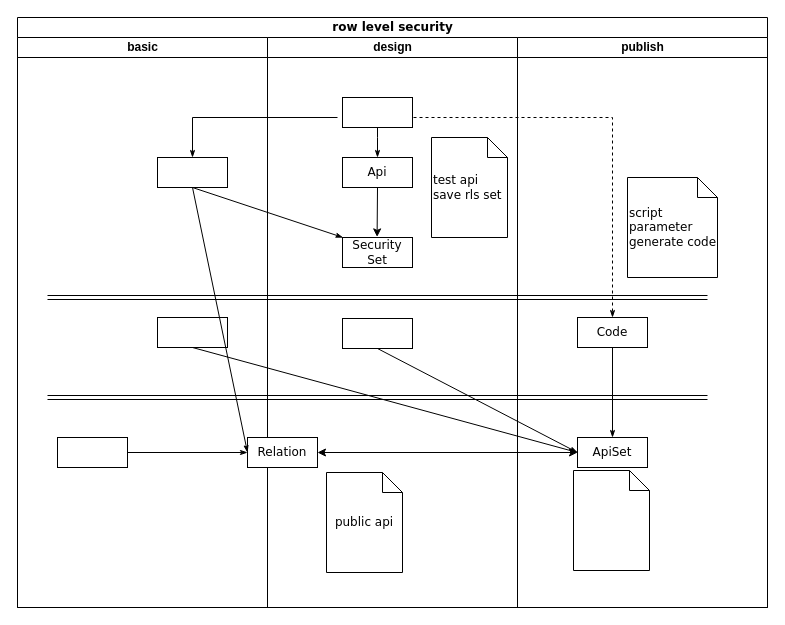
The diagram is 785 pixels wide and 625 high, and some of its shapes have lost their labels. Here are the shapes that lost their labels. From the top down, the centre of each, then its label:
(x=377, y=112): Project
(x=192, y=172): Group
(x=192, y=332): Group`
(x=377, y=333): Security Set`
(x=92, y=452): User
(x=611, y=520): api call
